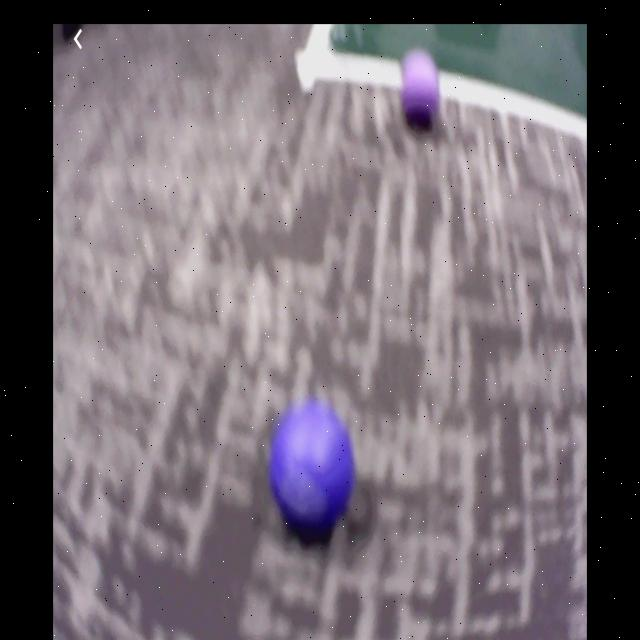ball: (270, 405, 356, 530), (400, 53, 442, 129)
